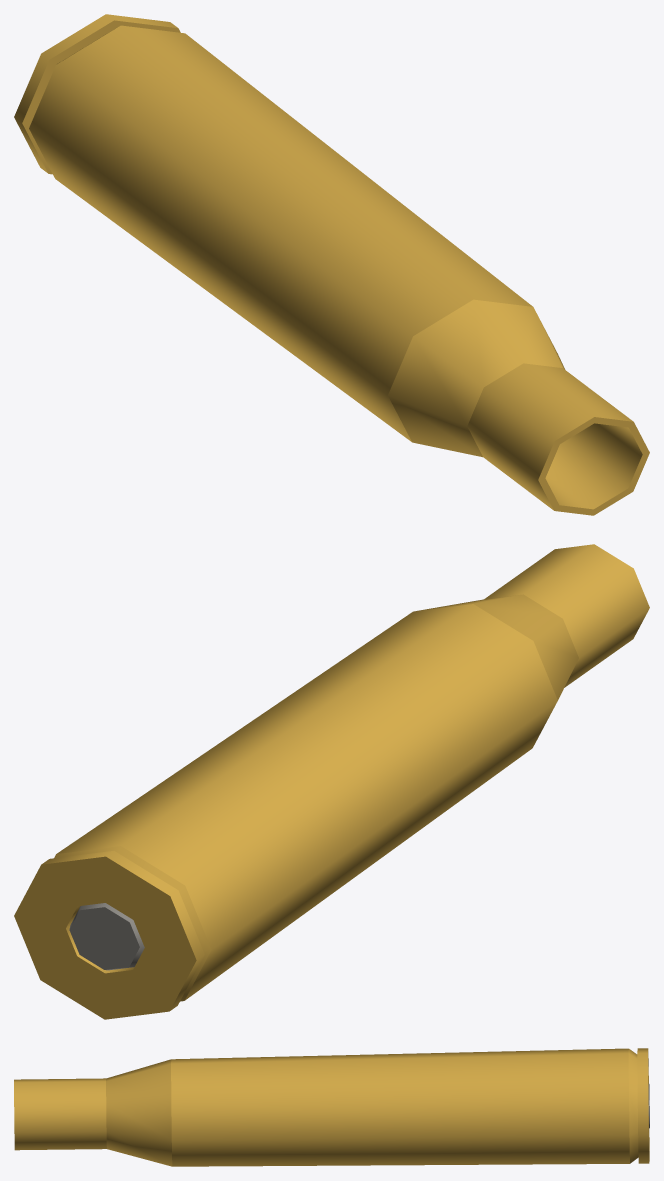
File: Empty762.FBX
3 views of the same model, one above another, from view 1: azimuth 30°, elevation 25°; view 2: azimuth 150°, elevation 25°; view 3: azimuth 270°, elevation 25° (orthographic). The views are drawn at different scales.
Visible parts, largest first — view 1: Empty762; view 2: Empty762; view 3: Empty762.
Boxes of the visible parts, bbox=[...] form: Empty762: bbox=[14, 14, 649, 515]; Empty762: bbox=[14, 544, 649, 1019]; Empty762: bbox=[14, 1048, 649, 1166].
Bounding box in the file's own units: 1.57 × 1.38 × 7.29.
